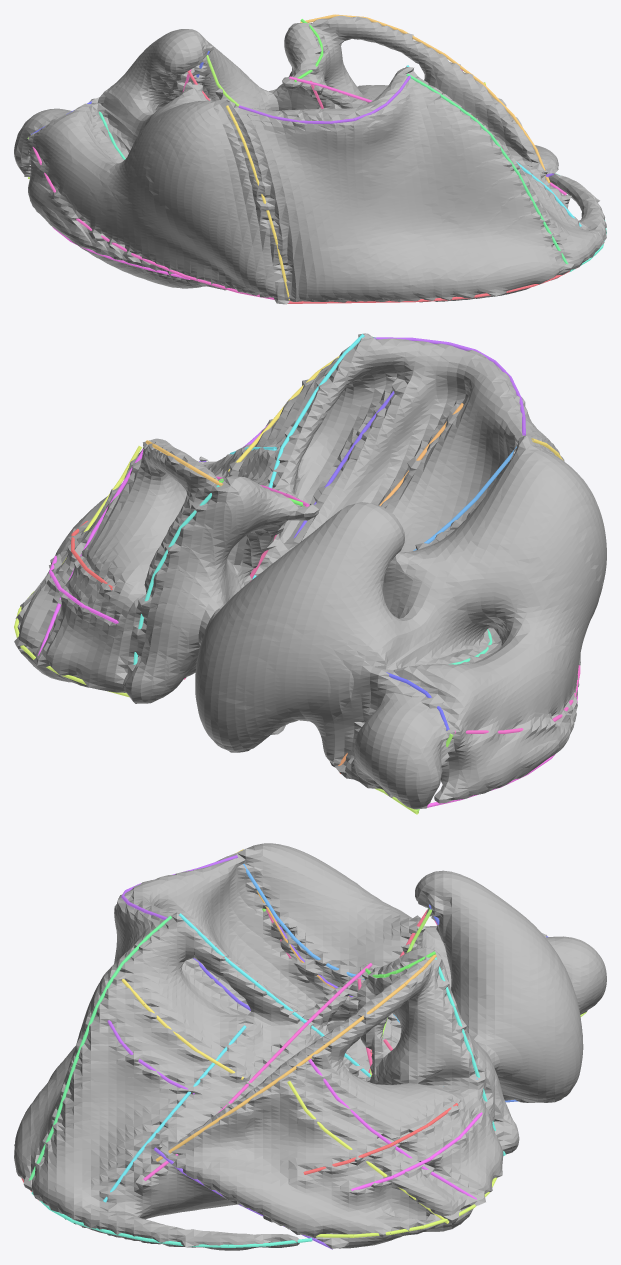
Rendered from author1_building.gltf.
3 renders of one model, top to bottom at view 1: azimuth 30°, elevation 25°; view 2: azimuth 150°, elevation 25°; view 3: azimuth 270°, elevation 25°, orthographic. The views are drawn at different scales.
Bounding box in the file's own units: 0.7034 × 0.3356 × 0.6882.
